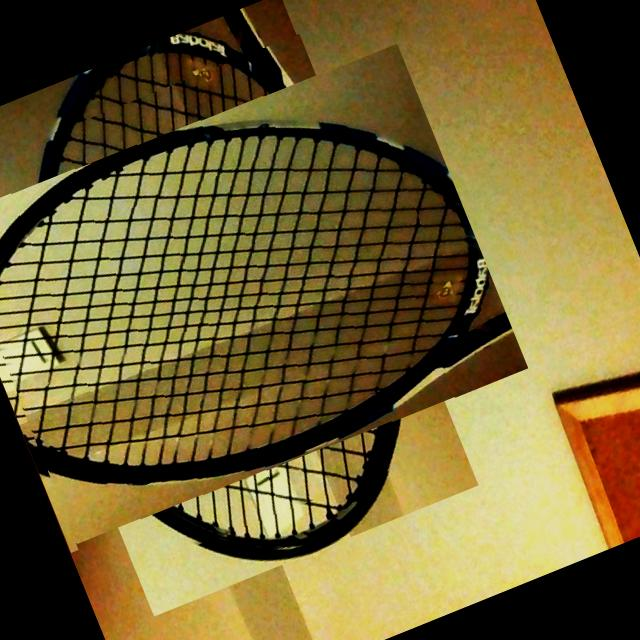TennisRacket: (0, 16, 501, 590)
